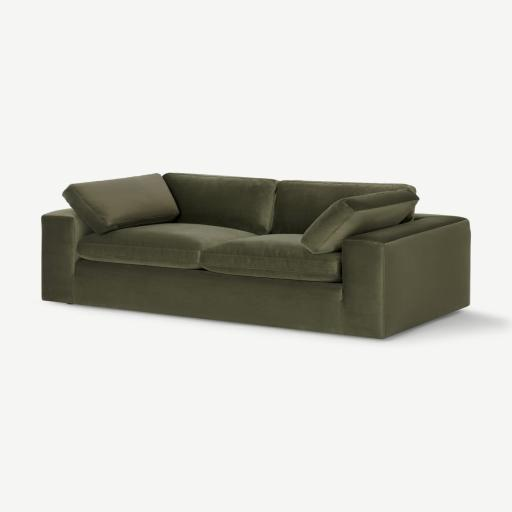back_cushion: (63, 173, 418, 255)
base: (64, 259, 348, 333)
left_arm: (342, 216, 470, 338)
right_arm: (42, 209, 92, 303)
seat_cushion: (78, 223, 341, 282)
two-seater: (0, 0, 511, 512)
